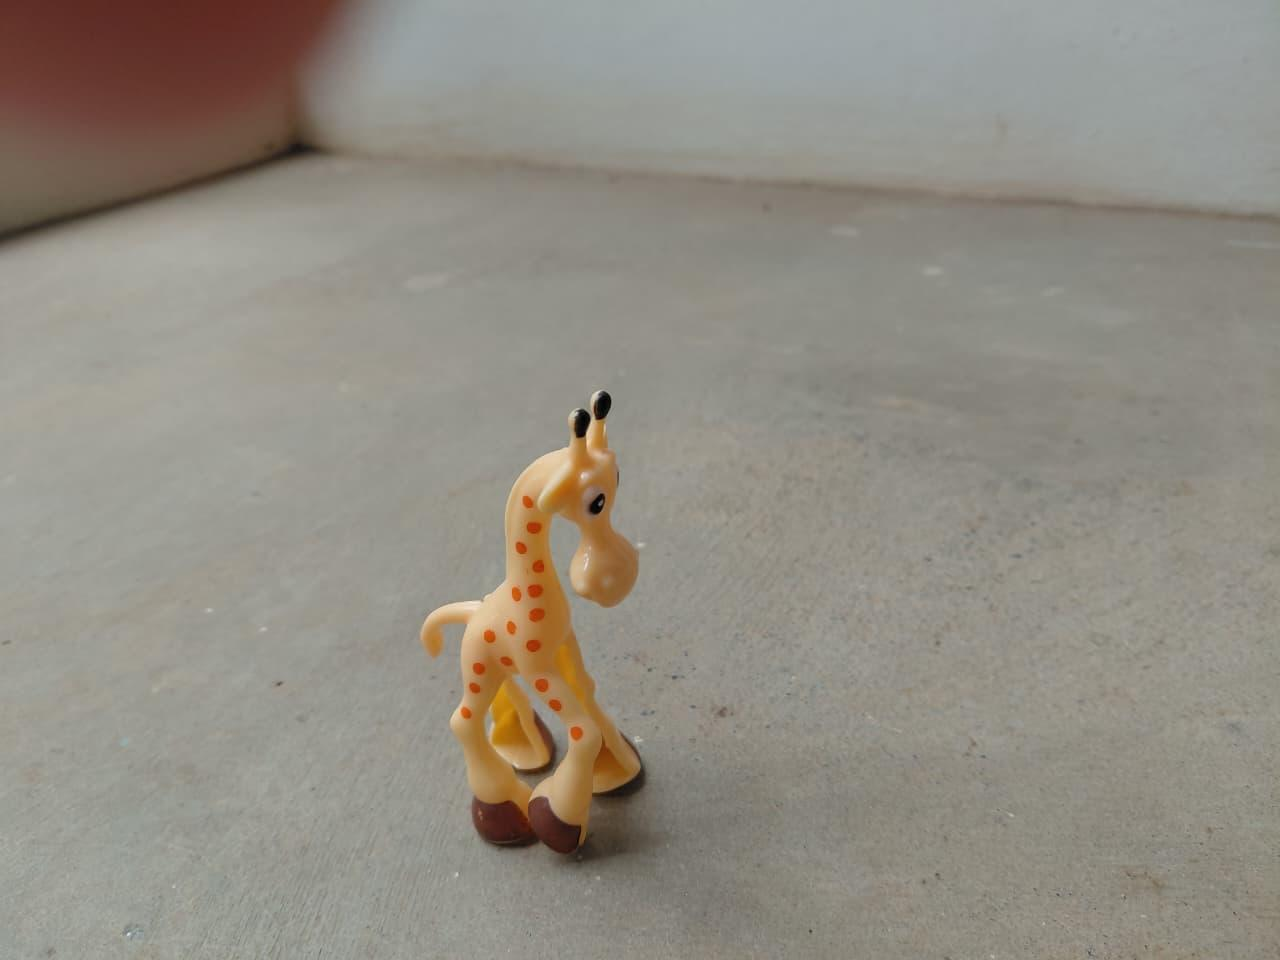giraffe: (416, 388, 669, 855)
